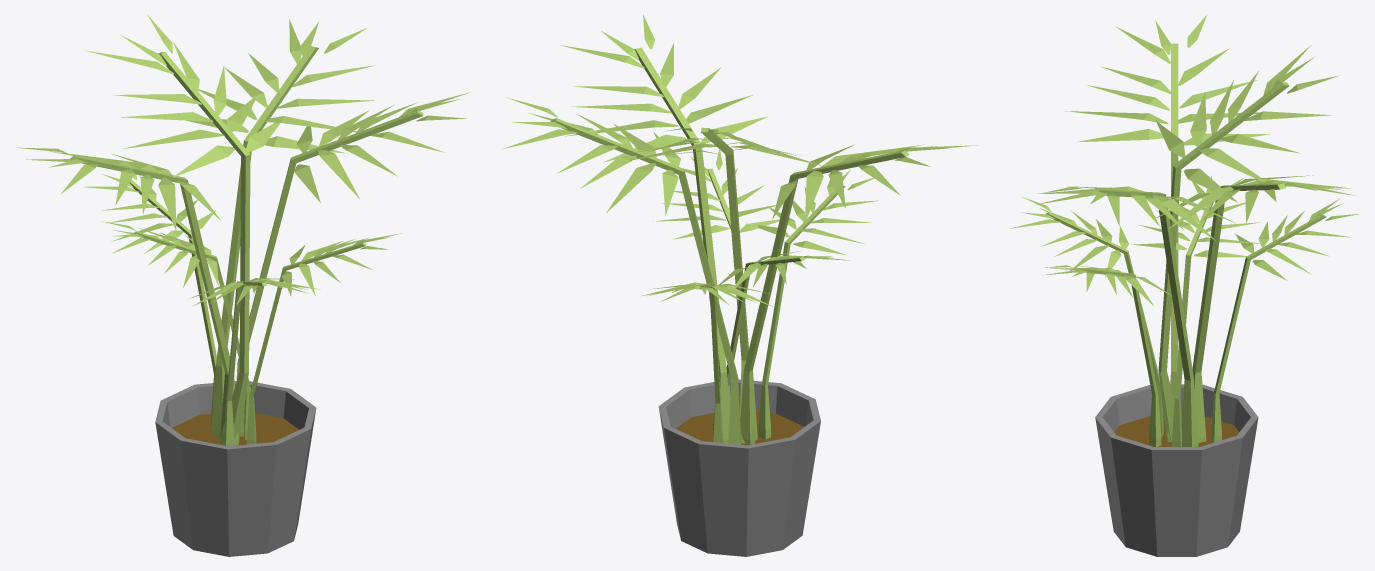
File: plant_wide.dae
3 renders of one model, left to right at view 1: azimuth 30°, elevation 25°; view 2: azimuth 150°, elevation 25°; view 3: azimuth 270°, elevation 25°, orthographic.
Parts seen in each view (by area): view 1: IKEA_Plant_2; view 2: IKEA_Plant_2; view 3: IKEA_Plant_2.
Boxes of the visible parts, x1,y1,x2,y2 form: IKEA_Plant_2: [16, 15, 470, 556]; IKEA_Plant_2: [502, 14, 977, 556]; IKEA_Plant_2: [1010, 14, 1358, 556].
Bounding box in the file's own units: 0.9977 × 0.742 × 1.05.
